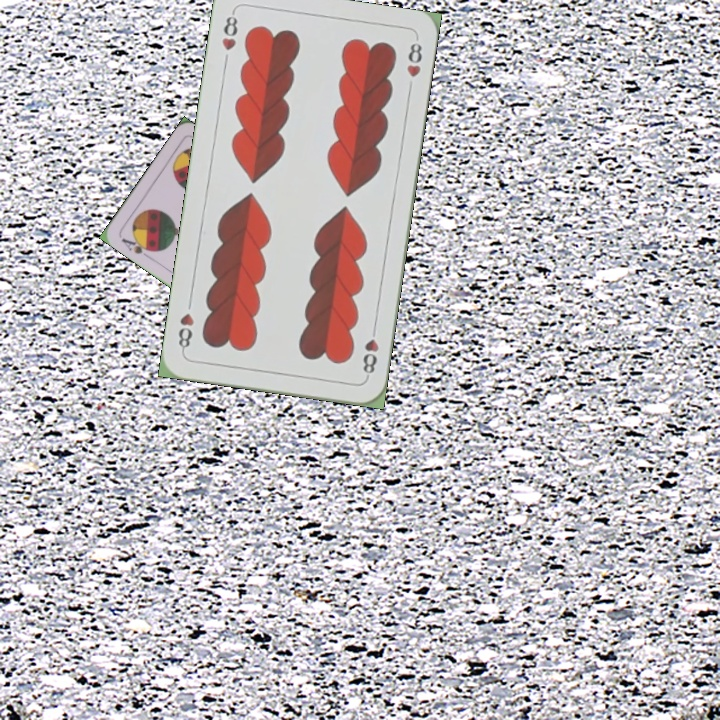H8: (359, 322, 381, 381), (218, 8, 240, 53)
SA: (117, 233, 156, 257)
